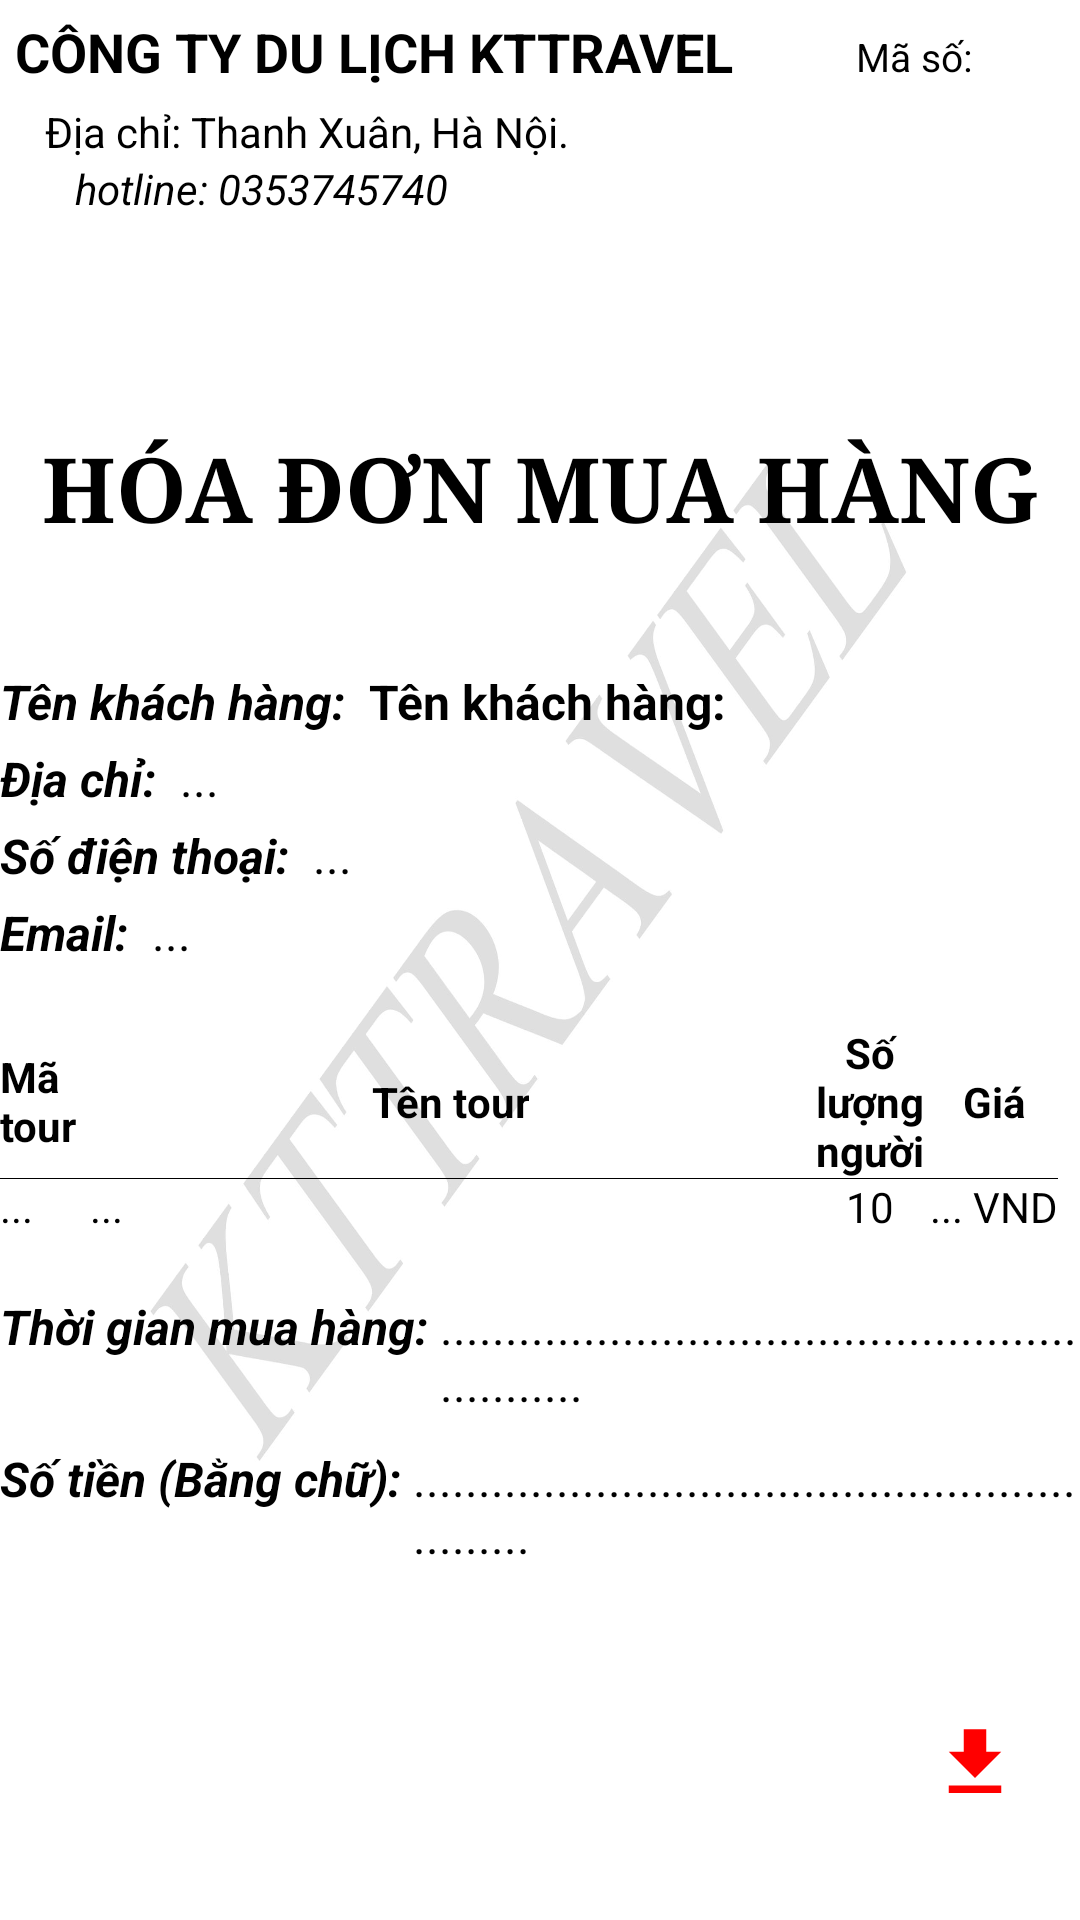

Named icons in this screenshot (1080x1920) and their bounding boxes, (x1, y1, x2, y2):
download: (948, 1729, 1002, 1793)
